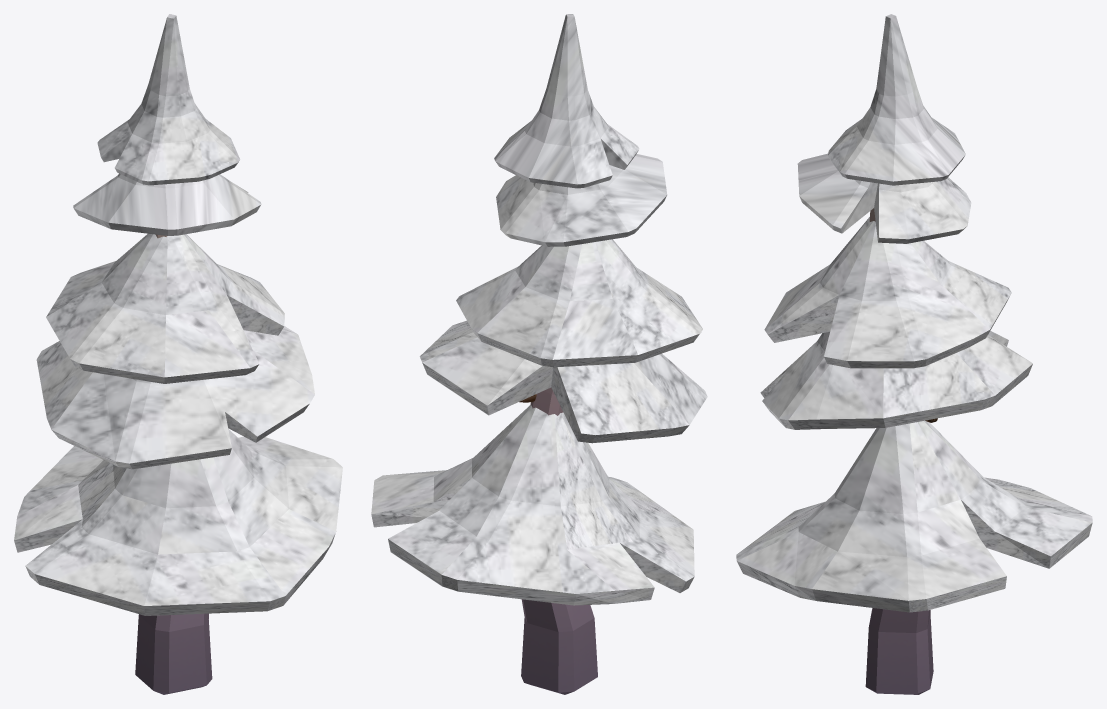
File: tree_pink.gltf
3 views of the same model, side by side, from view 1: azimuth 30°, elevation 25°; view 2: azimuth 150°, elevation 25°; view 3: azimuth 270°, elevation 25° (orthographic).
Visible parts, largest first — view 1: mesh_1_15, mesh_0_20, mesh_4, mesh_0_17, mesh_2_21, mesh_0_12, mesh_3, mesh_5, mesh_2_12, mesh_2_7, mesh_1_17, mesh_0_5 (+12 smaller); view 2: mesh_0_5, mesh_4, mesh_3, mesh_0_4, mesh_5, mesh_1_17, mesh_2_2, mesh_2_21, mesh_0_20, mesh_0_2, mesh_1_2, mesh_2_12 (+15 smaller); view 3: mesh_0_12, mesh_2_3, mesh_4, mesh_3, mesh_0_4, mesh_5, mesh_1_5, mesh_1_4, mesh_0_17, mesh_2_2, mesh_1_15, mesh_2_7 (+11 smaller).
Part boxes in pixels (box(x1,y1,x2,y2)): mesh_1_15: box(51, 350, 314, 463); mesh_0_20: box(25, 468, 285, 605); mesh_4: box(97, 14, 240, 185); mesh_0_17: box(123, 459, 335, 595); mesh_2_21: box(46, 234, 167, 377); mesh_0_12: box(213, 429, 342, 546); mesh_3: box(73, 173, 261, 235); mesh_5: box(135, 234, 212, 694); mesh_2_12: box(46, 263, 249, 377); mesh_2_7: box(166, 234, 259, 367); mesh_1_17: box(36, 341, 92, 429); mesh_0_5: box(17, 446, 109, 516); mesh_0_5: box(442, 408, 614, 593); mesh_4: box(494, 14, 639, 188); mesh_3: box(496, 154, 667, 246); mesh_0_4: box(388, 406, 654, 590); mesh_5: box(521, 387, 597, 694); mesh_1_17: box(557, 363, 689, 435); mesh_2_2: box(477, 244, 581, 359); mesh_2_21: box(595, 239, 702, 354); mesh_0_20: box(560, 412, 694, 581); mesh_0_2: box(554, 413, 632, 549); mesh_1_2: box(422, 337, 542, 405); mesh_2_12: box(553, 299, 638, 359); mesh_0_12: box(799, 423, 1006, 600); mesh_2_3: box(824, 221, 989, 361); mesh_4: box(828, 14, 965, 185); mesh_3: box(797, 153, 971, 243); mesh_0_4: box(917, 421, 1092, 556); mesh_5: box(865, 208, 933, 694); mesh_1_5: box(883, 353, 994, 418); mesh_1_4: box(788, 364, 883, 420); mesh_0_17: box(737, 493, 837, 588); mesh_2_2: box(911, 240, 1011, 329); mesh_1_15: box(761, 331, 829, 420); mesh_2_7: box(764, 217, 874, 334).
Bounding box in the file's own units: 528 × 1086 × 526.
Materials: 4 (4 with a texture image).
